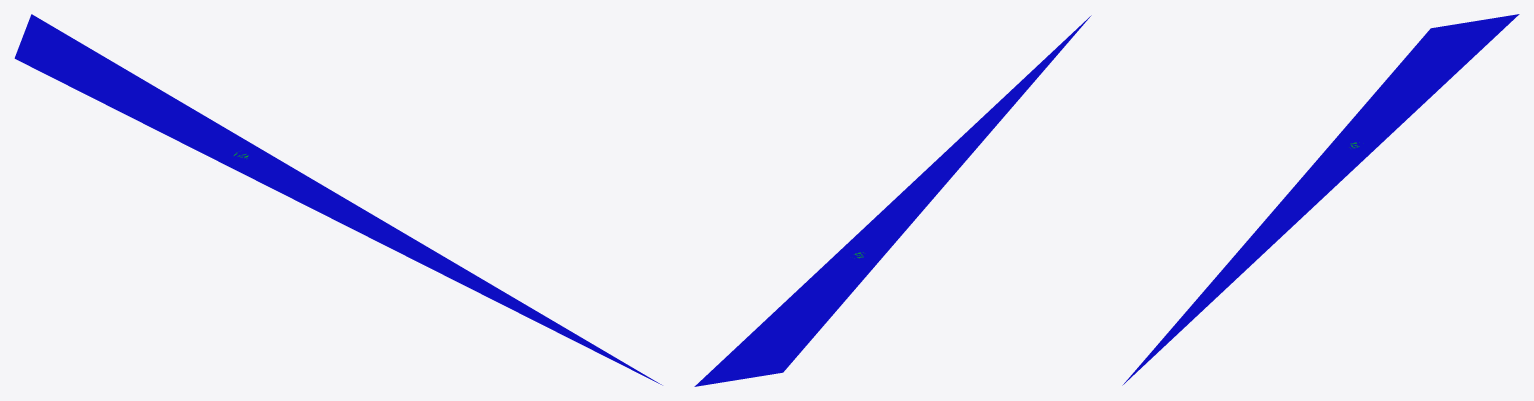
The picture shows the model from 3 angles, left to right: view 1: azimuth 30°, elevation 25°; view 2: azimuth 150°, elevation 25°; view 3: azimuth 330°, elevation 25°; orthographic projection. The views are drawn at different scales.
Bounding box in the file's own units: 1331 × 0.001 × 8212.
